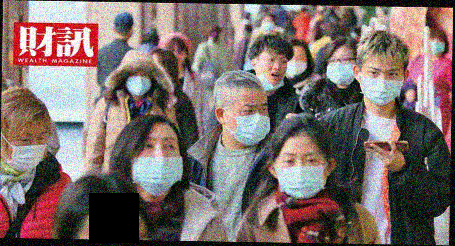mask_weared_incorrect: (255, 53, 286, 87)
with_mask: (130, 132, 183, 197), (274, 148, 327, 199), (227, 98, 271, 147), (358, 63, 403, 106), (6, 126, 45, 172), (325, 50, 355, 84), (124, 68, 153, 95), (285, 51, 308, 78), (428, 34, 446, 57)
without_mask: (166, 44, 188, 63)
